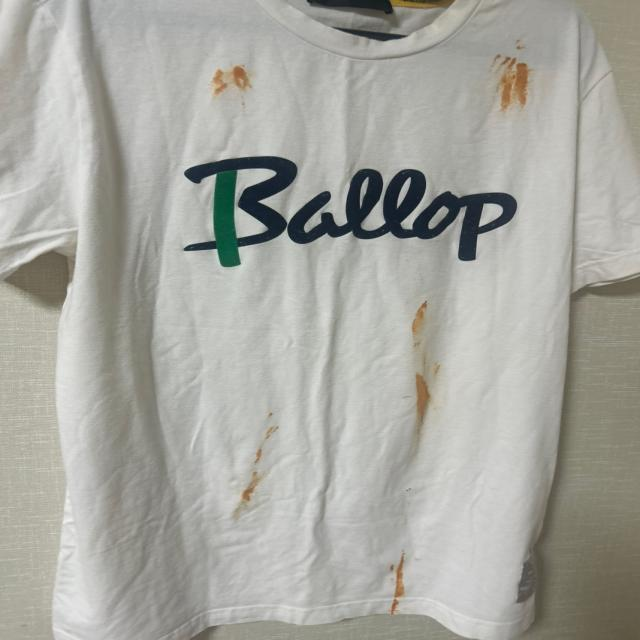stain: (230, 417, 290, 500), (483, 49, 538, 112), (205, 66, 261, 112), (408, 354, 443, 427), (402, 297, 438, 348), (387, 551, 416, 614), (504, 27, 540, 62), (411, 427, 433, 466), (400, 482, 417, 502)
